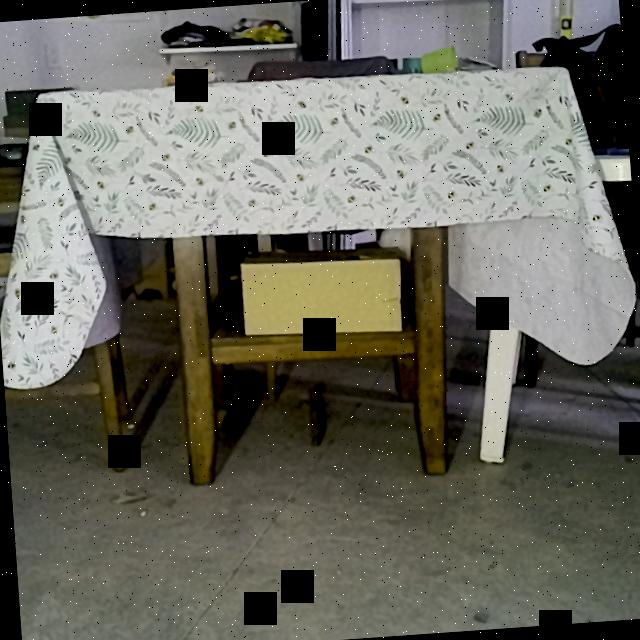box: (240, 254, 404, 340)
